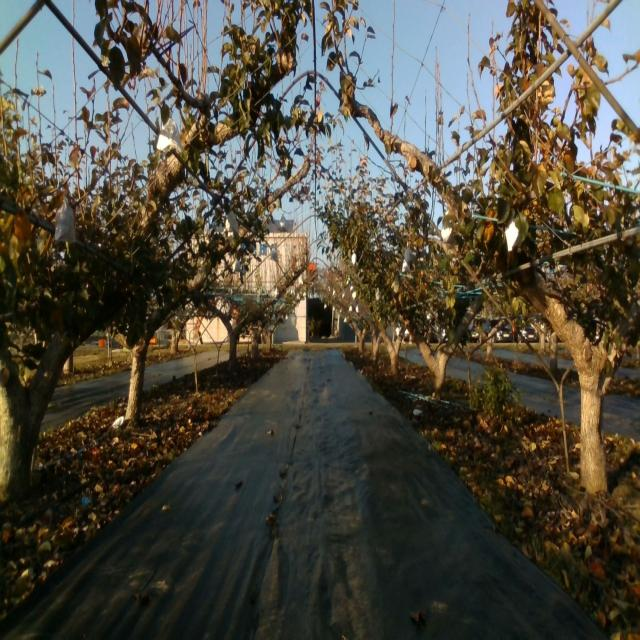pearbags: (155, 117, 184, 158), (54, 196, 75, 246), (504, 221, 520, 252), (225, 210, 238, 233), (441, 220, 452, 245), (277, 213, 287, 232)
